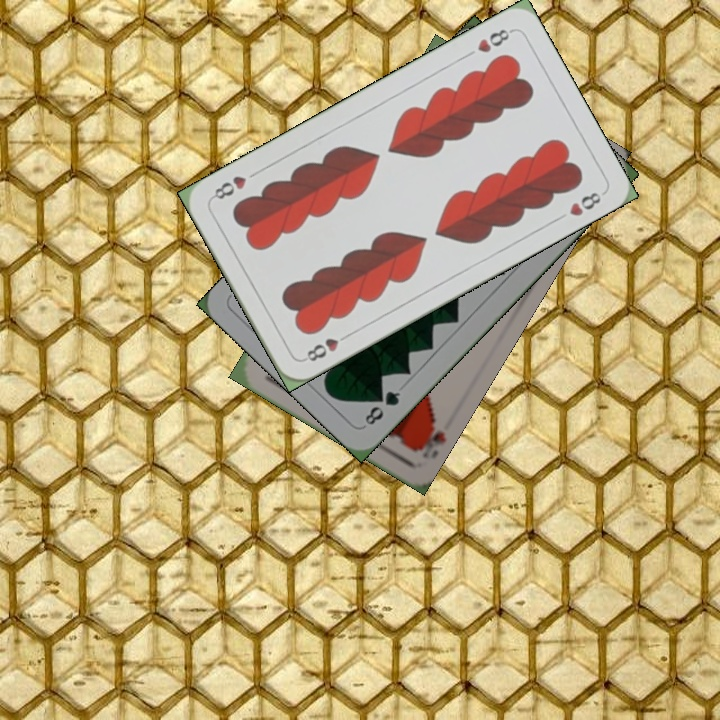G8: (359, 386, 403, 430)
H8: (299, 329, 353, 364), (473, 25, 516, 56)
HO: (410, 409, 449, 461)
